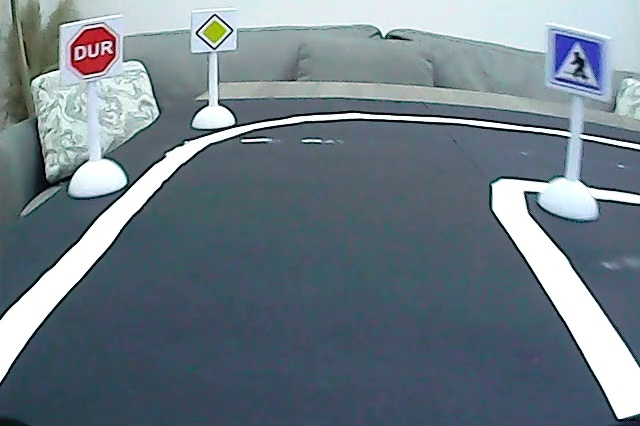pedestrian crossing: (550, 28, 605, 97)
stop sign: (66, 22, 122, 79)
